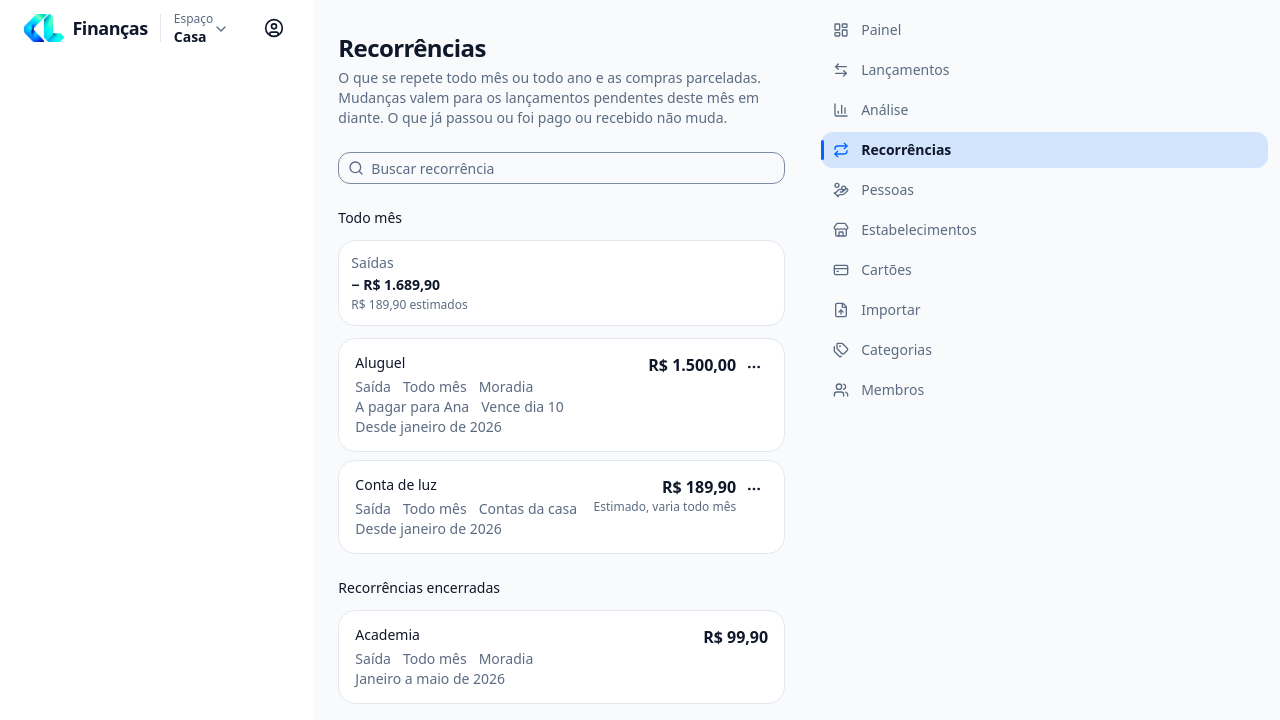
RecurrencesPage › searches recurrences and plans by what the row says, the merchant or the amount
The image size is (1280, 720).
// By merchant: only Aluguel, and the groups with nothing found leave.
Type "imobiliaria" into the search field named "Buscar recorrência ou parcelamento".
click(562, 168); type("imobiliaria")  # box [338,152,785,184]
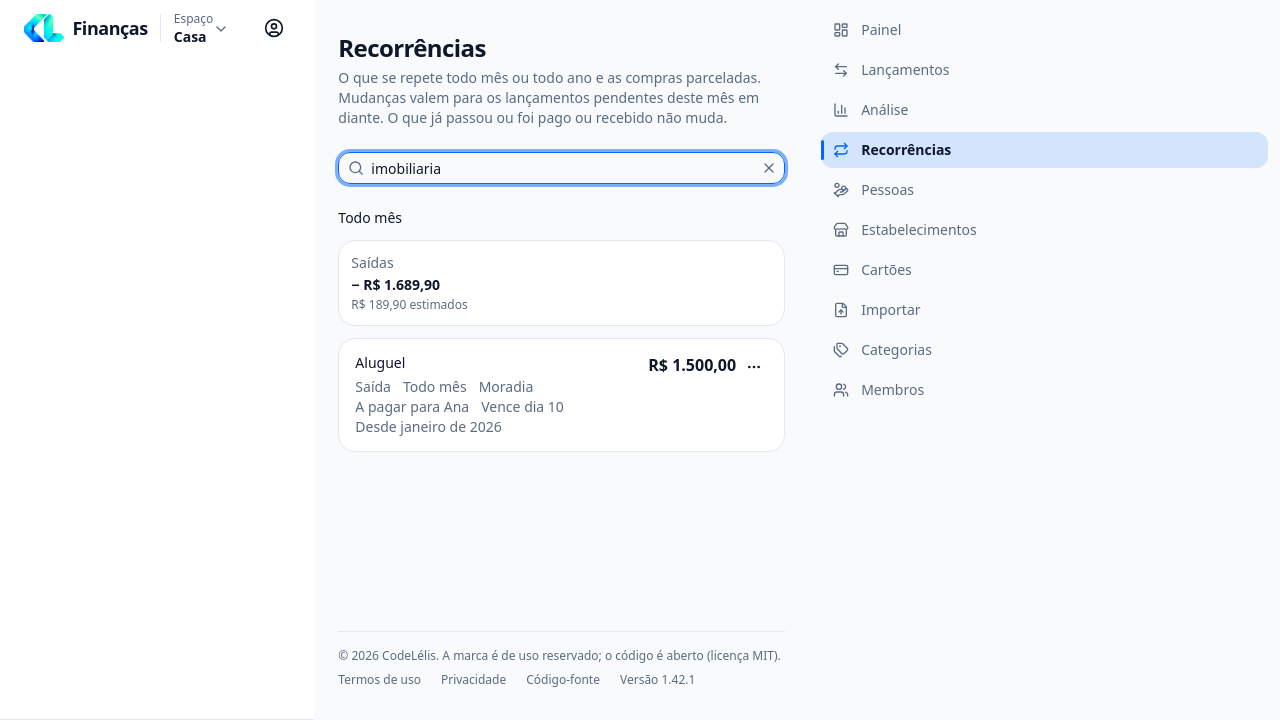
Expected: the element named "Total por mês" shows "R$ 1.689,90", [351,275,440,294]
Now the heading "Recorrências encerradas" is gone
// By the person of a plan.
Replace the text in the search field named "Buscar recorrência ou parcelamento" with "bruno" at coordinates (562, 168), box [338,152,785,184]
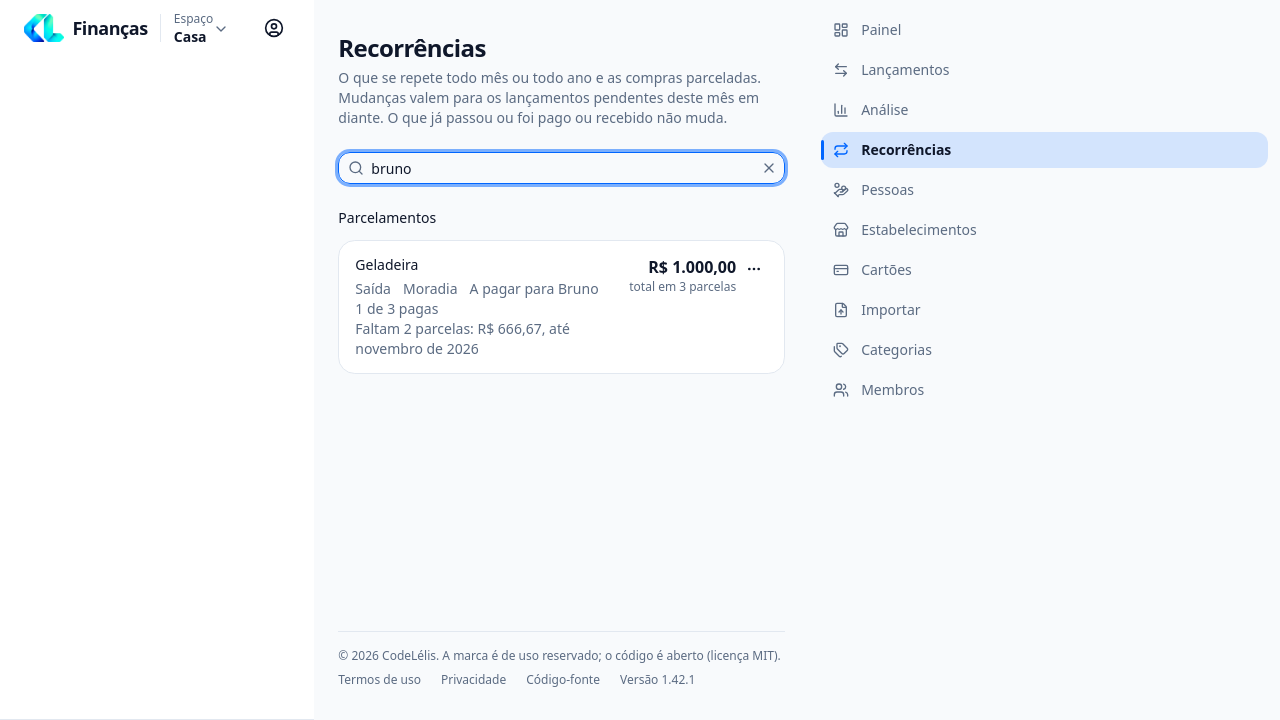
// By amount, and nothing found.
Replace the text in the search field named "Buscar recorrência ou parcelamento" with "99,90" at coordinates (562, 168), box [338,152,785,184]
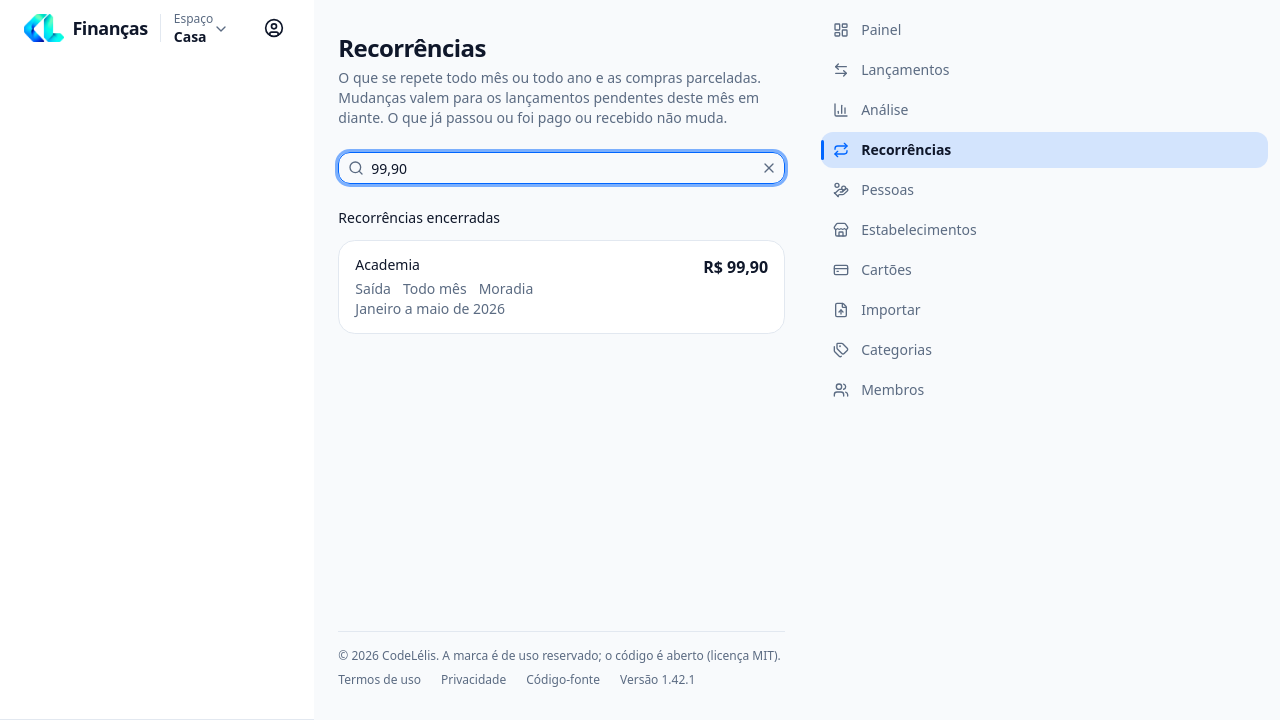
Replace the text in the search field named "Buscar recorrência ou parcelamento" with "xyz" at coordinates (562, 168), box [338,152,785,184]
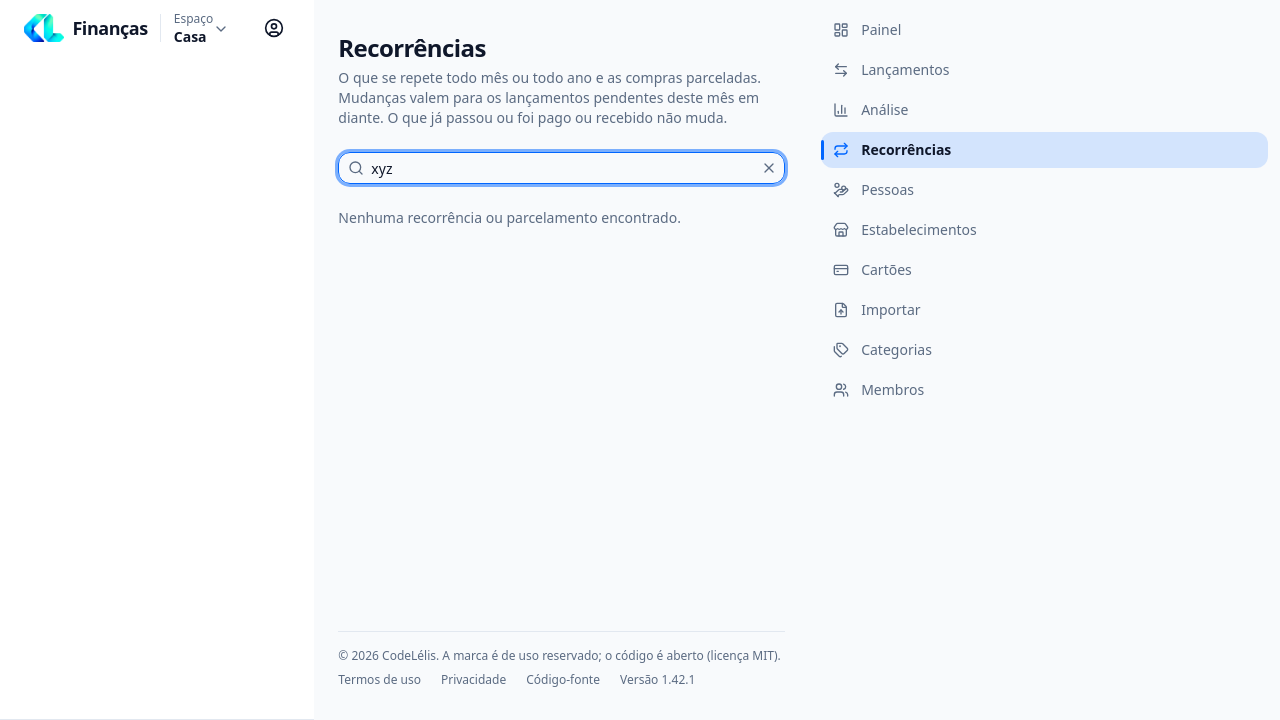
Now the text "Nenhuma recorrência ou parcelamento encontrado." is shown, box [338,208,681,227]
